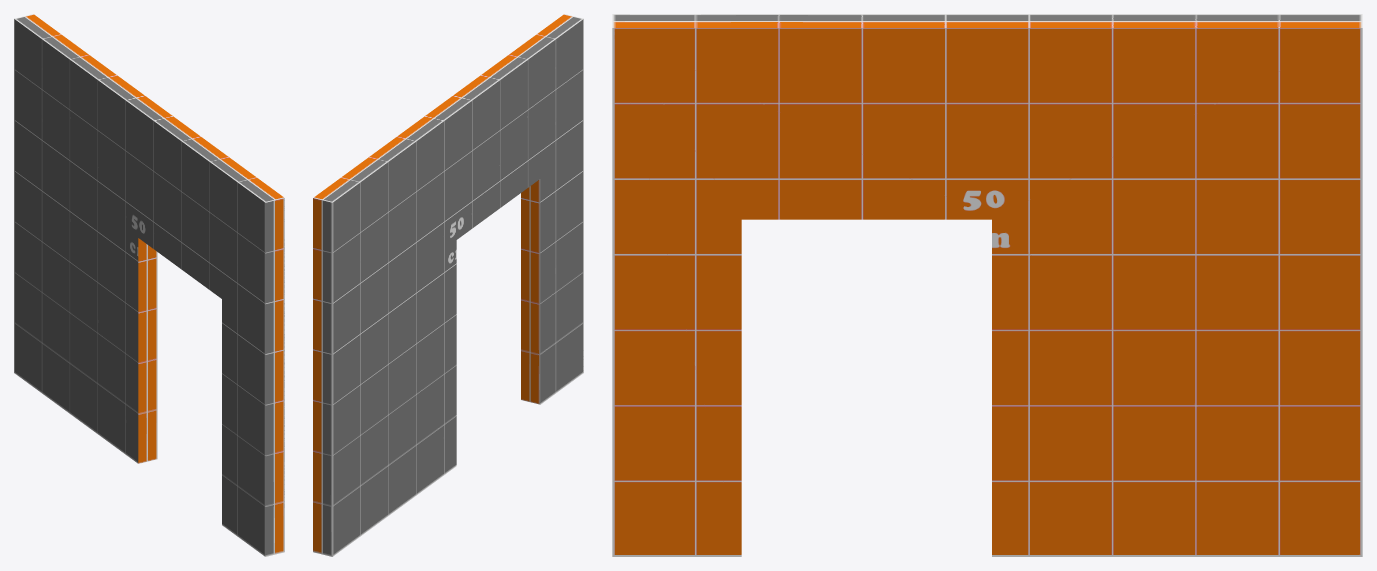
File: casa_puerta_02.fbx
The picture shows the model from 3 angles, left to right: view 1: azimuth 30°, elevation 25°; view 2: azimuth 150°, elevation 25°; view 3: azimuth 270°, elevation 25°; orthographic projection. The views are drawn at different scales.
Visible parts, largest first — view 1: casa_puerta_02; view 2: casa_puerta_02; view 3: casa_puerta_02.
Part boxes in pixels (x1,y1,x2,y2): casa_puerta_02: [14, 14, 284, 556]; casa_puerta_02: [313, 14, 583, 556]; casa_puerta_02: [612, 14, 1362, 556].
Bounding box in the file's own units: 20 × 350 × 450.
